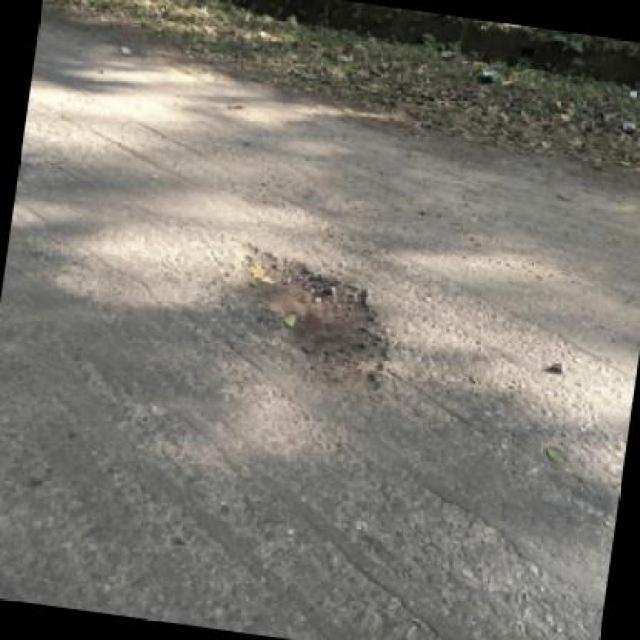pothole1: (205, 235, 407, 399)
